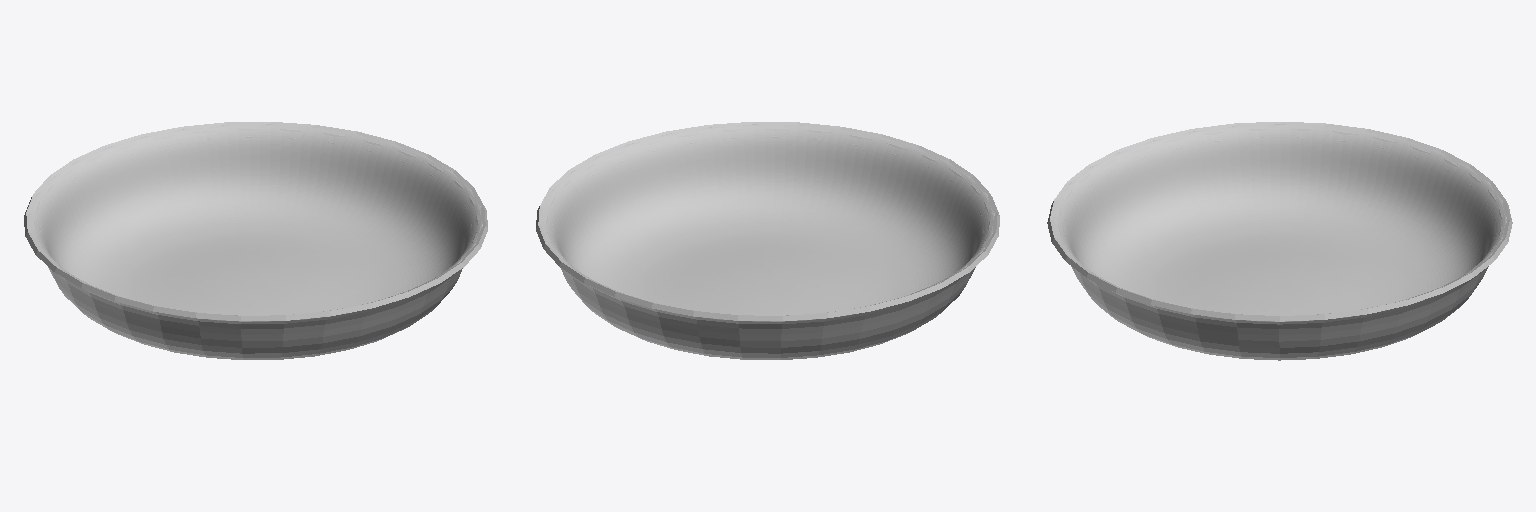
The picture shows the model from 3 angles: view 1: azimuth 30°, elevation 25°; view 2: azimuth 150°, elevation 25°; view 3: azimuth 270°, elevation 25°; orthographic projection.
Parts seen in each view (by area): view 1: BowlK3; view 2: BowlK3; view 3: BowlK3.
Boxes of the visible parts, <box> form: BowlK3: <box>24,122,487,359</box>; BowlK3: <box>536,122,999,359</box>; BowlK3: <box>1047,122,1512,360</box>.
Size of the model in its own units: 5.87 by 1.04 by 5.87.